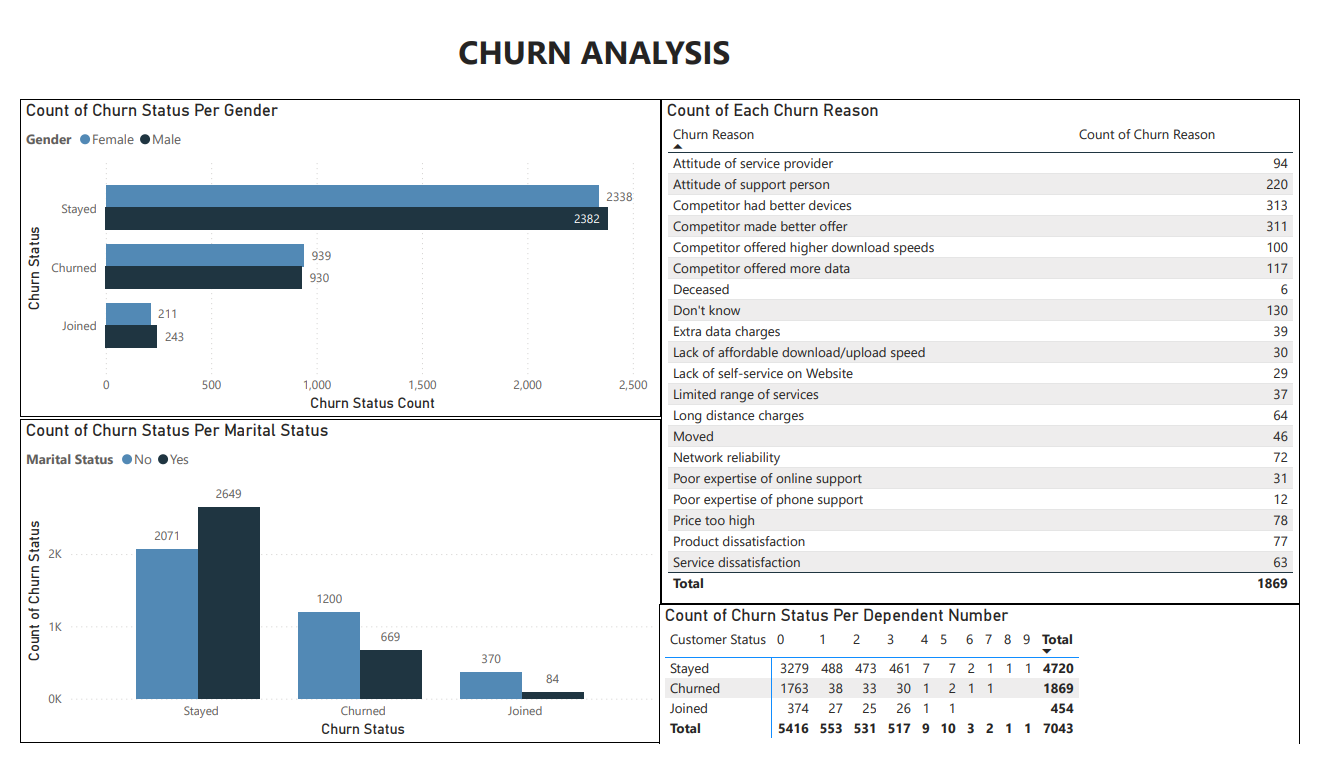

Layout of this report page (visuals, bound fields, positions):
{"tool":"powerbi","page":{"name":"Churn Analysis","canvas":[1280,720],"ordinal":4},"visuals":[{"type":"clusteredBarChart","title":"Count of Churn Status Per Gender","fields":{"Category":["Customer Status.Customer Status"],"Y":["CountNonNull(Customer Status.Customer Status)"],"Series":["Cleaned Data.Gender"]},"box":[0,74.8,640.7,318.6],"z":0},{"type":"tableEx","title":"Count of Each Churn Reason","fields":{"Values":["Customer Status.Churn Reason","CountNonNull(Customer Status.Churn Reason)"]},"box":[640.7,74.8,638.9,505.5],"z":1000},{"type":"clusteredColumnChart","title":"Count of Churn Status Per Marital Status","fields":{"Category":["Customer Status.Customer Status"],"Y":["CountNonNull(Customer Status.Customer Status)"],"Series":["Cleaned Data.Marital Status"]},"box":[0,395.1,640.7,323.9],"z":2000},{"type":"textbox","box":[119.2,0,911.3,62.3],"z":3000},{"type":"pivotTable","title":"Count of Churn Status Per Dependent Number","fields":{"Rows":["Customer Status.Customer Status"],"Values":["CountNonNull(Customer Status.Customer Status)"],"Columns":["Cleaned Data.Number of Dependents"]},"box":[638.9,580.2,640.7,140.6],"z":3001}]}

Visuals, with their boxes in screenshot pixels (x1, y1, x2, y2), scaled from the page's 1280x720 canvas onto the 1324x762 screenshot:
"Count of Churn Status Per Gender" clusteredBarChart: (0,79,663,416)
"Count of Each Churn Reason" tableEx: (663,79,1323,614)
"Count of Churn Status Per Marital Status" clusteredColumnChart: (0,418,663,761)
textbox: (123,0,1066,66)
"Count of Churn Status Per Dependent Number" pivotTable: (661,614,1323,761)
